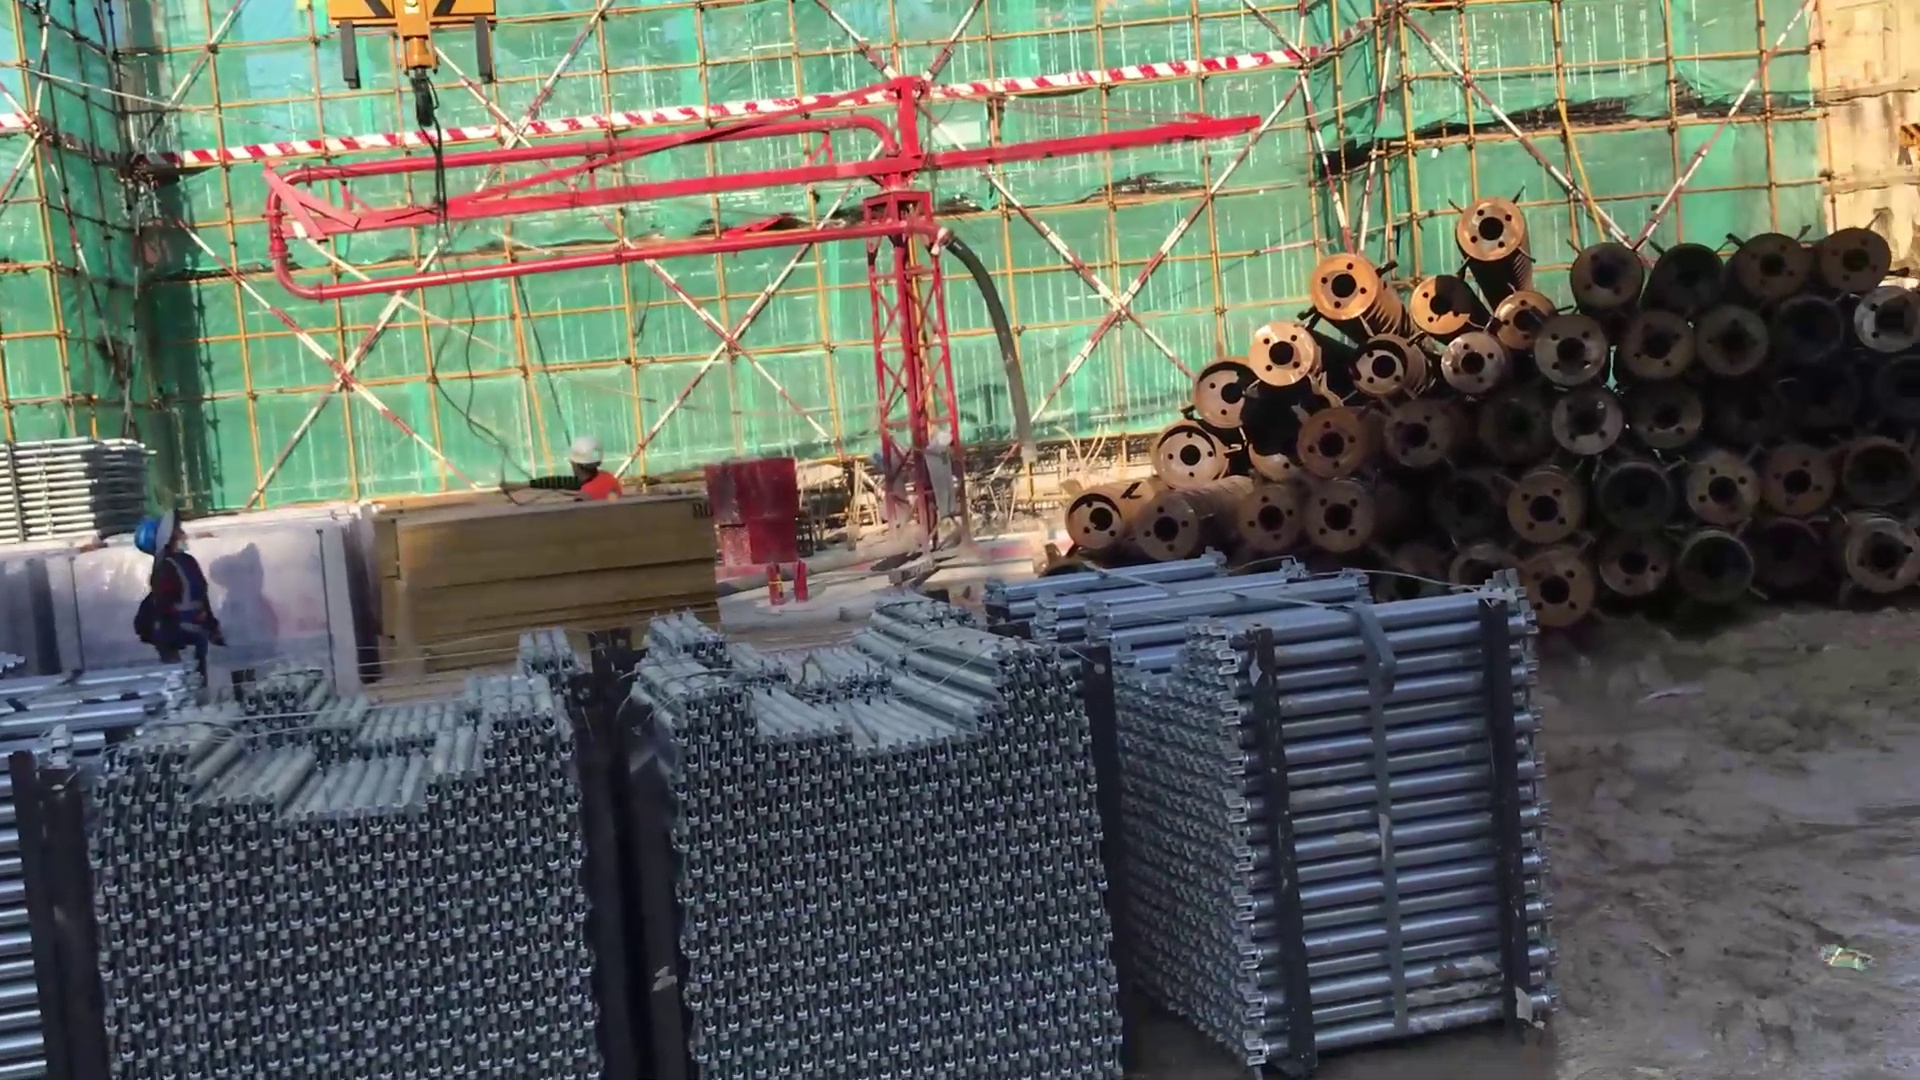board: (363, 501, 730, 652)
helmet: (130, 515, 215, 559), (566, 427, 615, 494)
hook: (330, 1, 517, 162)
person: (130, 509, 228, 697), (486, 432, 637, 513)
scaffold: (998, 552, 1576, 1053), (594, 614, 1175, 1080), (106, 637, 597, 1080), (1, 666, 205, 1072), (1, 416, 168, 556)
vest: (145, 549, 217, 654), (566, 472, 630, 506)
